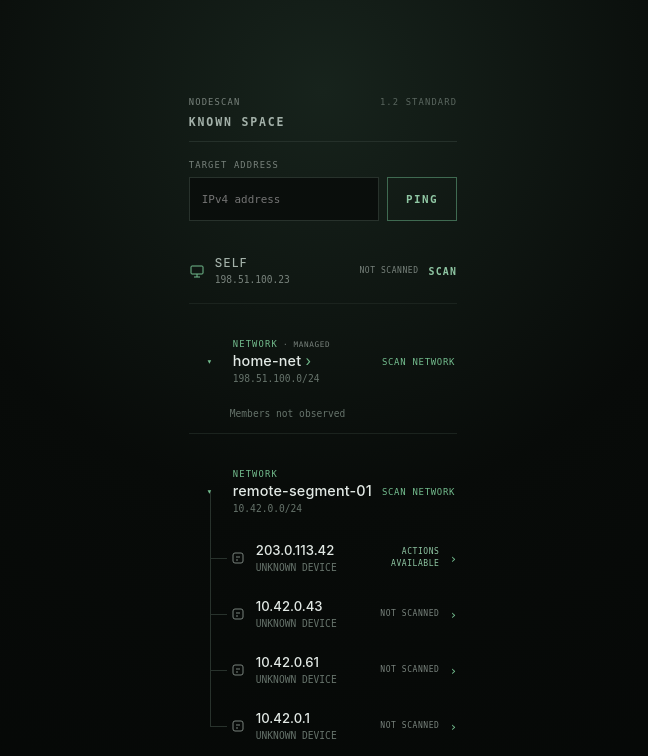
NodeScan target topology › renders only the selected phone and compact Network affiliation
Click the button "10.42.0.61 UNKNOWN DEVICE NOT SCANNED ›": (344, 670) x1=230 y1=642 x2=457 y2=698
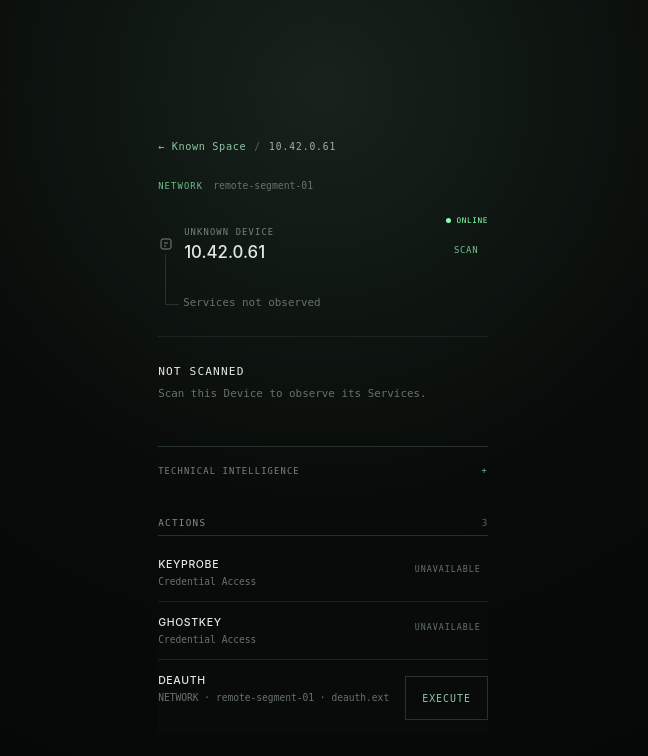
Expected: the number of headings "10.42.0.61" is 1, x1=184 y1=242 x2=265 y2=262
Expected: the element named "Target topology" shows "remote-segment-01", x1=213 y1=180 x2=313 y2=191
Expected: the element named "Target topology" no longer shows "203.0.113.42", x1=158 y1=176 x2=488 y2=316
